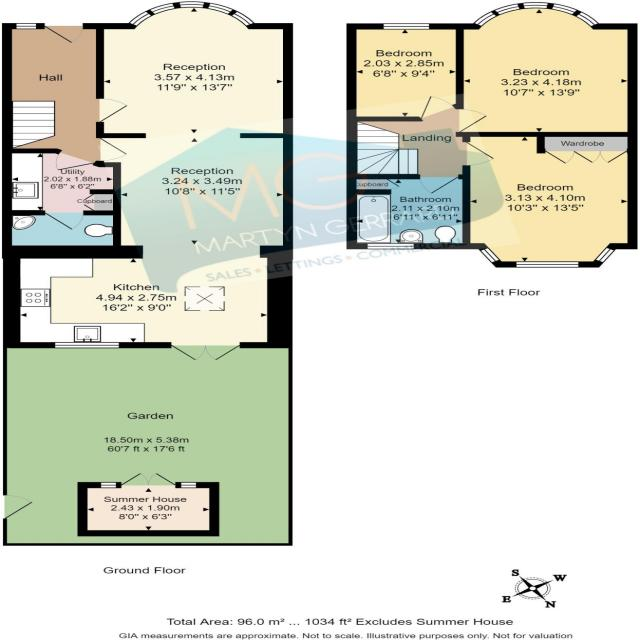DOOR: (418, 95, 458, 122), (417, 174, 460, 196), (462, 140, 497, 167), (55, 149, 97, 171), (43, 210, 85, 231), (43, 23, 85, 44), (455, 108, 490, 133), (96, 98, 129, 123), (95, 137, 128, 162)
DOUBLE DOOR: (161, 341, 252, 363)
ROOM: (2, 1, 293, 361), (455, 1, 638, 137), (462, 132, 638, 268), (346, 23, 464, 122)
WINDOW: (472, 2, 601, 28), (54, 342, 120, 349), (515, 261, 580, 268), (478, 246, 502, 264), (230, 10, 255, 27), (127, 11, 153, 27), (594, 246, 616, 264), (148, 2, 177, 15), (365, 243, 416, 250), (207, 2, 234, 15), (382, 23, 430, 30), (178, 1, 205, 9), (15, 23, 37, 30)
